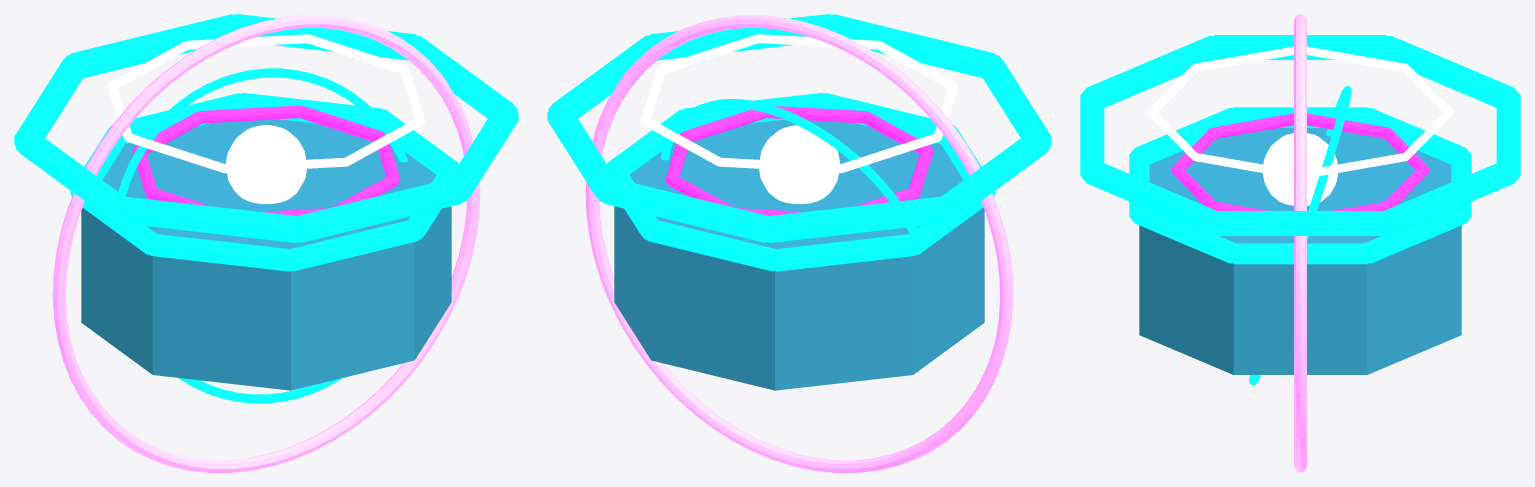
File: null_octagon.glb
The picture shows the model from 3 angles, left to right: view 1: azimuth 30°, elevation 25°; view 2: azimuth 150°, elevation 25°; view 3: azimuth 270°, elevation 25°; orthographic projection. The views are drawn at different scales.
Visible parts, largest first — view 1: NullOctagonBlackGlassBody, NullOctagonVoidCageA, NullBossReadabilityOctagonRoute4, NullOctagonVoidCageB, NullBossReadabilityOctagonRoute5, NullOctagonWhiteCore, NullBossReadabilityOctagonRoute1, NullBossReadabilityOctagonRoute3, NullOctagonOuterEdge4, NullOctagonOuterEdge5, NullBossReadabilityOctagonRoute6, NullBossReadabilityOctagonRoute7 (+18 smaller); view 2: NullOctagonBlackGlassBody, NullOctagonVoidCageA, NullBossReadabilityOctagonRoute2, NullBossReadabilityOctagonRoute1, NullOctagonWhiteCore, NullBossReadabilityOctagonRoute5, NullBossReadabilityOctagonRoute3, NullOctagonOuterEdge2, NullOctagonOuterEdge1, NullOctagonVoidCageB, NullBossReadabilityOctagonRoute0, NullBossReadabilityOctagonRoute7 (+19 smaller); view 3: NullOctagonBlackGlassBody, NullOctagonVoidCageA, NullBossReadabilityOctagonRoute7, NullBossReadabilityOctagonRoute0, NullBossReadabilityOctagonRoute6, NullBossReadabilityOctagonRoute2, NullBossReadabilityOctagonRoute4, NullBossReadabilityOctagonRoute3, NullOctagonOuterEdge7, NullOctagonWhiteCore, NullOctagonOuterEdge0, NullOctagonOuterEdge6 (+22 smaller).
Boxes of the visible parts, x1,y1,x2,y2 form: NullOctagonBlackGlassBody: [81, 119, 451, 390]; NullOctagonVoidCageA: [52, 15, 480, 472]; NullBossReadabilityOctagonRoute4: [116, 196, 297, 242]; NullOctagonVoidCageB: [118, 68, 408, 403]; NullBossReadabilityOctagonRoute5: [297, 178, 464, 242]; NullOctagonWhiteCore: [225, 125, 306, 204]; NullBossReadabilityOctagonRoute1: [70, 14, 236, 77]; NullBossReadabilityOctagonRoute3: [15, 129, 124, 221]; NullOctagonOuterEdge4: [150, 234, 290, 271]; NullOctagonOuterEdge5: [290, 220, 420, 271]; NullBossReadabilityOctagonRoute6: [450, 103, 518, 201]; NullBossReadabilityOctagonRoute7: [407, 35, 517, 118]; NullOctagonBlackGlassBody: [614, 119, 984, 390]; NullOctagonVoidCageA: [585, 15, 1013, 472]; NullBossReadabilityOctagonRoute2: [768, 196, 949, 242]; NullBossReadabilityOctagonRoute1: [601, 178, 768, 242]; NullOctagonWhiteCore: [759, 125, 840, 204]; NullBossReadabilityOctagonRoute5: [829, 14, 995, 77]; NullBossReadabilityOctagonRoute3: [941, 129, 1050, 221]; NullOctagonOuterEdge2: [775, 234, 915, 271]; NullOctagonOuterEdge1: [645, 220, 775, 271]; NullOctagonVoidCageB: [660, 99, 916, 232]; NullBossReadabilityOctagonRoute0: [547, 103, 615, 201]; NullBossReadabilityOctagonRoute7: [548, 35, 658, 118]; NullOctagonBlackGlassBody: [1139, 128, 1461, 374]; NullOctagonVoidCageA: [1294, 14, 1306, 472]; NullBossReadabilityOctagonRoute7: [1214, 211, 1386, 235]; NullBossReadabilityOctagonRoute0: [1384, 160, 1517, 235]; NullBossReadabilityOctagonRoute6: [1083, 160, 1216, 235]; NullBossReadabilityOctagonRoute2: [1381, 36, 1515, 107]; NullBossReadabilityOctagonRoute4: [1085, 36, 1219, 107]; NullBossReadabilityOctagonRoute3: [1214, 35, 1386, 59]; NullOctagonOuterEdge7: [1233, 243, 1367, 264]; NullOctagonWhiteCore: [1262, 133, 1338, 205]; NullOctagonOuterEdge0: [1365, 205, 1468, 263]; NullOctagonOuterEdge6: [1132, 205, 1235, 263].
Size of the model in its own units: 2.29 by 2.29 by 2.2.
